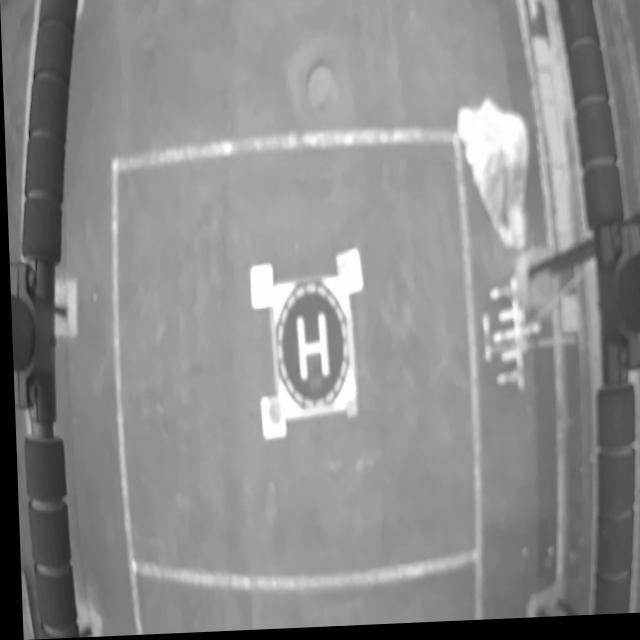Helipad: (294, 316, 327, 385)
